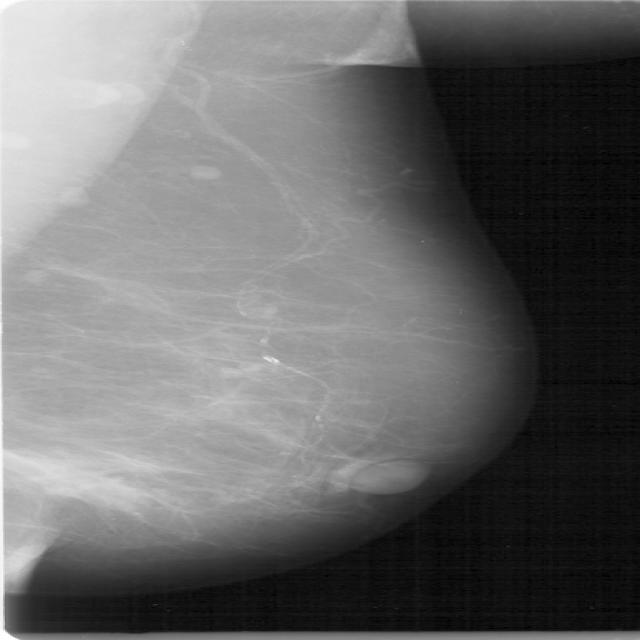tumour: (2, 448, 149, 511)
